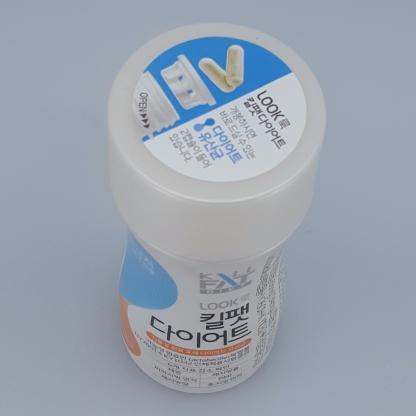------LOOK------170ML: (107, 22, 327, 393)
